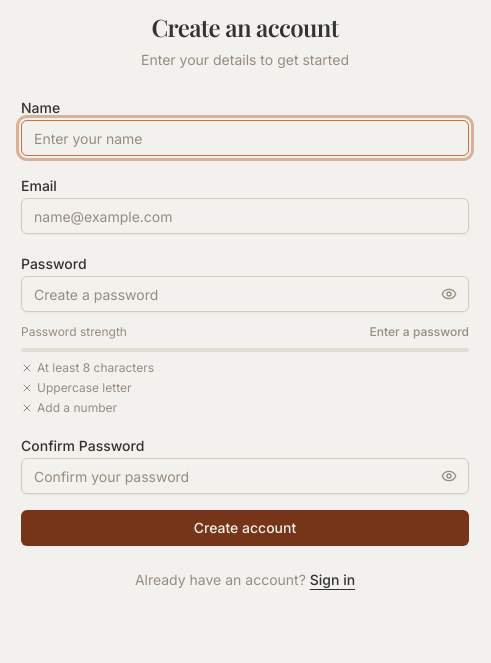
RegisterForm › validation › validates email format
This screenshot has width=491, height=663.
Type "invalid-email" into the field labelled "Email" at (245, 216), box [21,198,469,234]
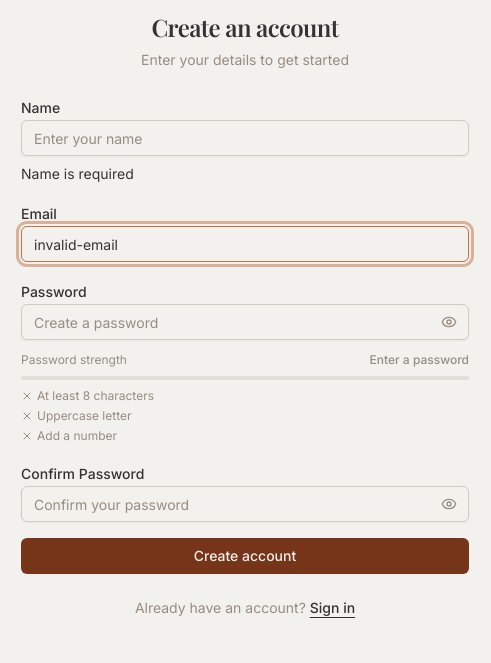
Click the button "Create account" at (245, 556), box [21,538,469,574]
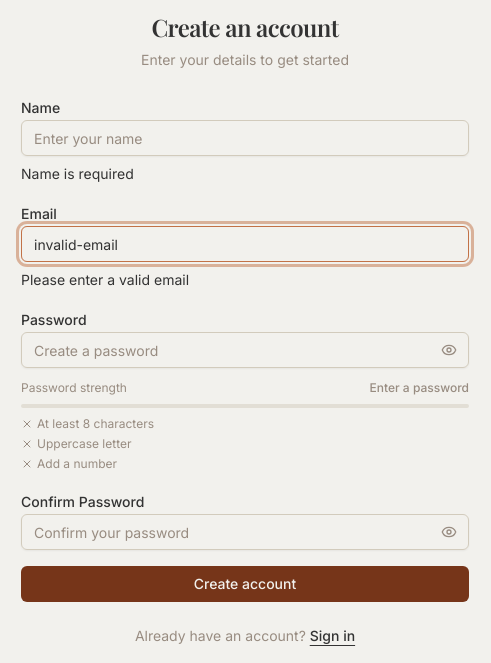
Check: the text "Please enter a valid email" is shown, box [21,271,189,288]
